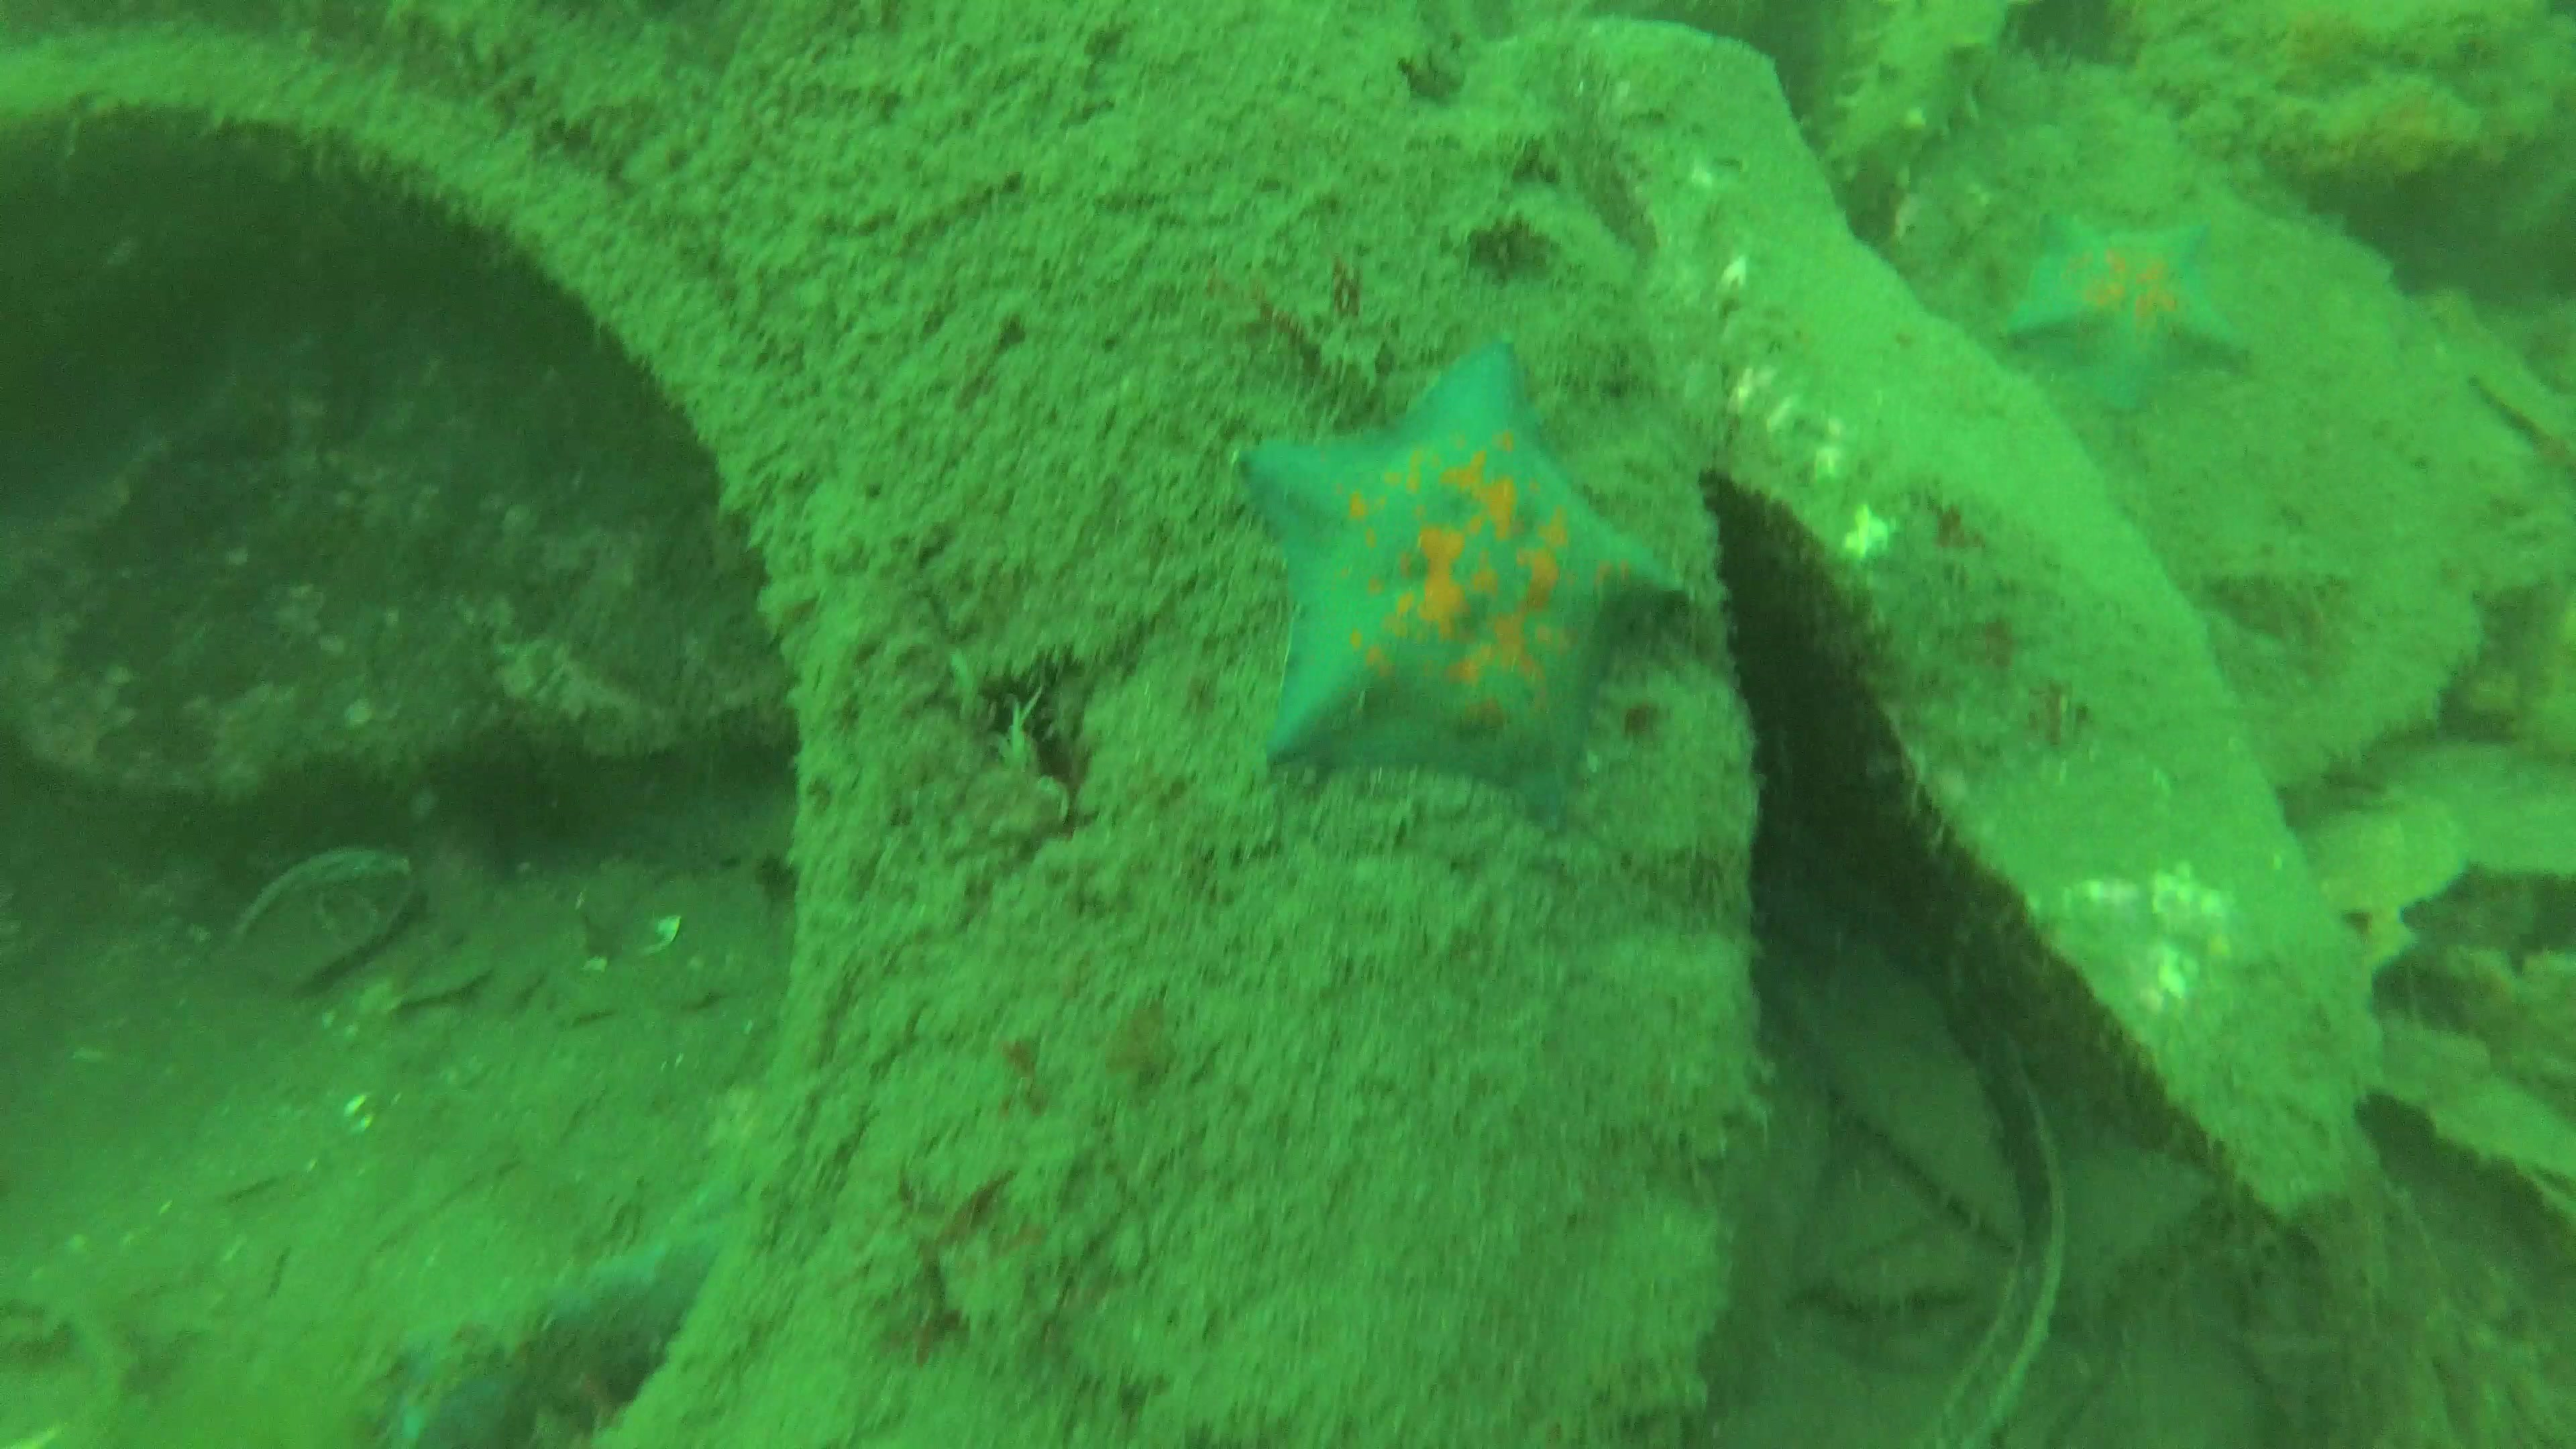holothurian: (1805, 0, 2020, 212)
starfish: (1235, 333, 1702, 828), (1990, 207, 2259, 423)
